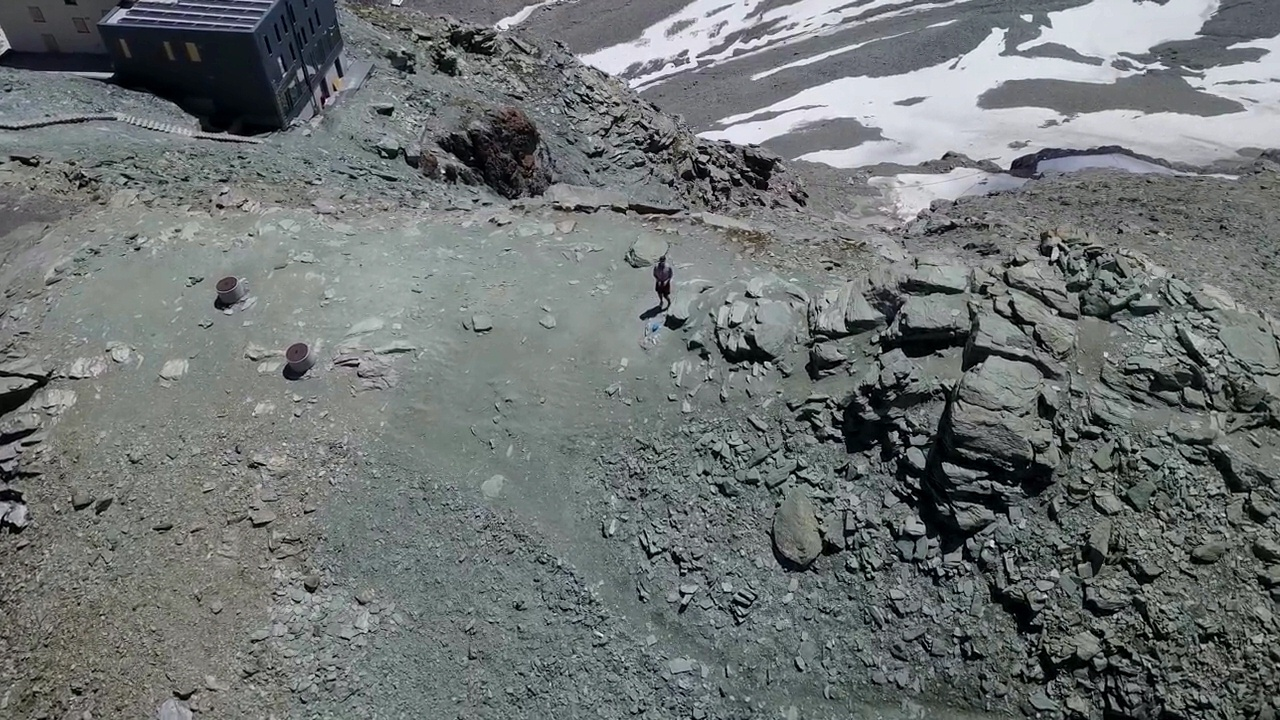insan: (649, 251, 674, 313)
